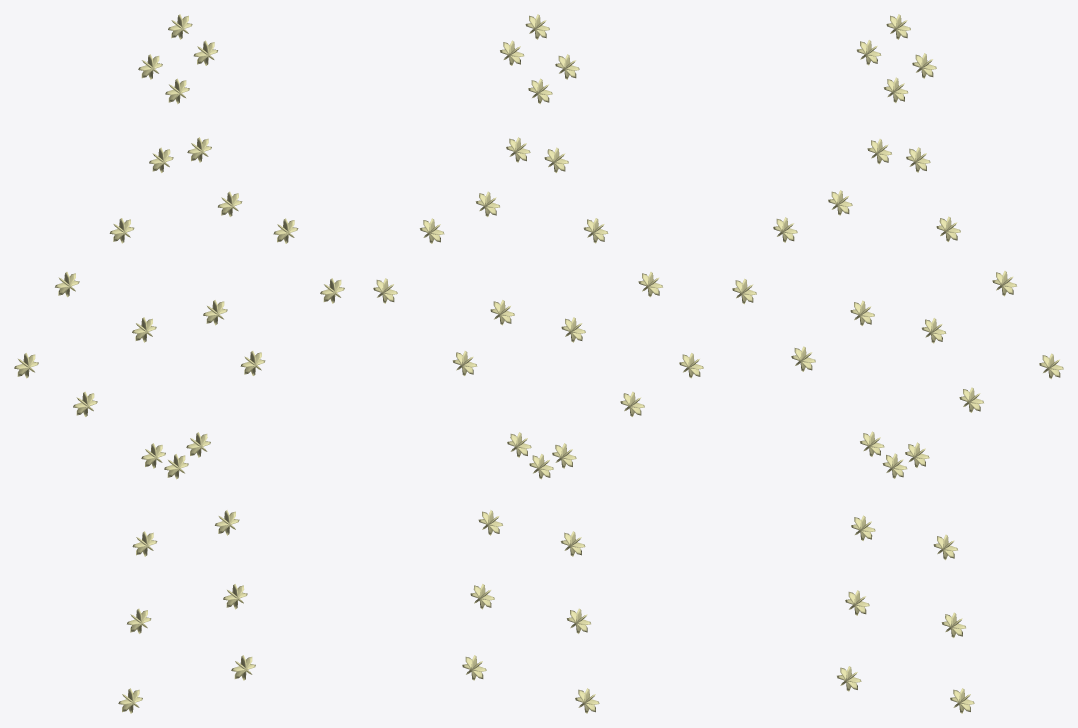
The model's file is MainPlayer.fbx.
3 renders of one model, left to right at view 1: azimuth 30°, elevation 25°; view 2: azimuth 150°, elevation 25°; view 3: azimuth 330°, elevation 25°, orthographic.
Size of the model in its own units: 33.86 by 67.27 by 1.07.
